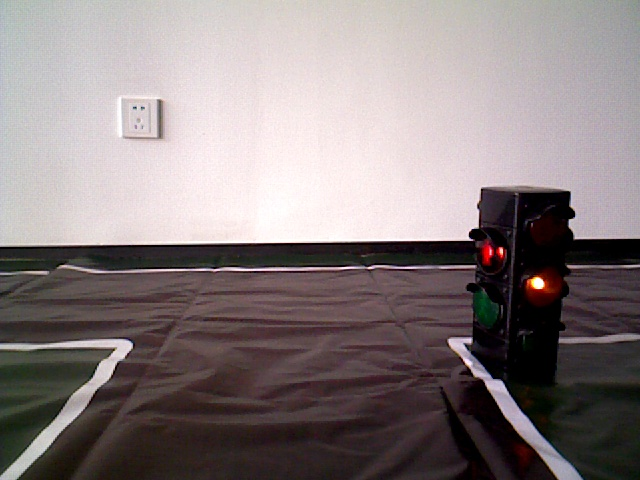yellow: (472, 186, 560, 375)
